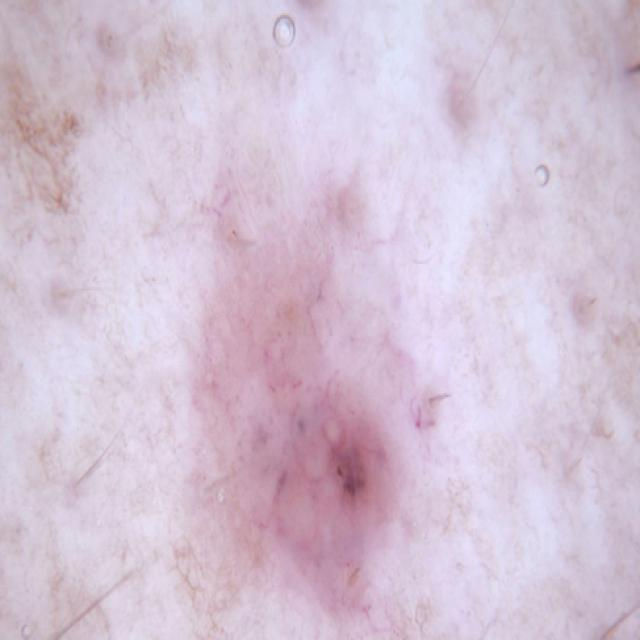Carcinoma: (160, 184, 464, 640)
